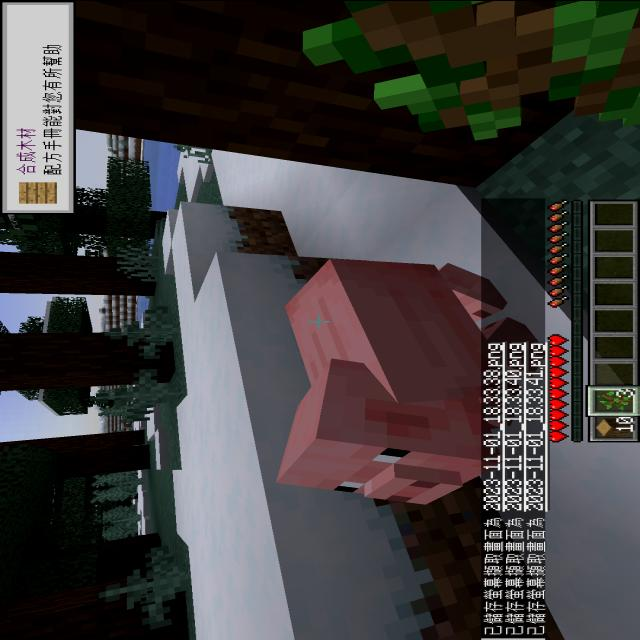pig: (262, 208, 564, 532)
